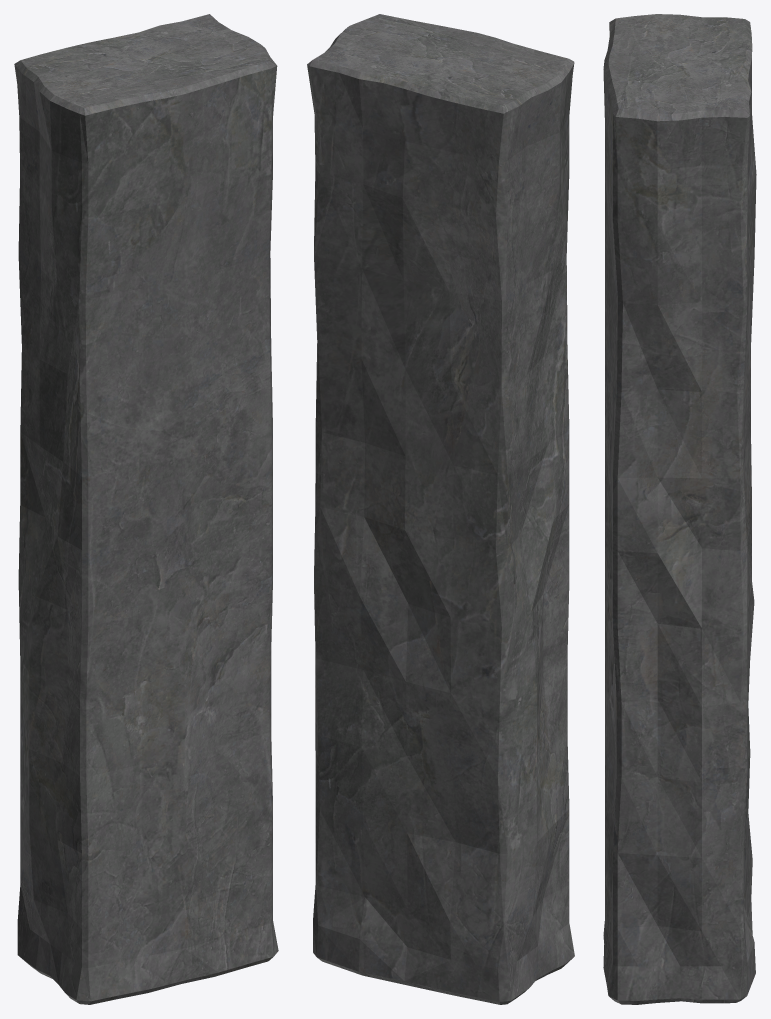
File: CaveWallPillar.fbx
The picture shows the model from 3 angles, left to right: view 1: azimuth 30°, elevation 25°; view 2: azimuth 150°, elevation 25°; view 3: azimuth 270°, elevation 25°; orthographic projection.
Parts seen in each view (by area): view 1: SM_ENV_NATURE_Cave_Wall_Pillar_01.mo; view 2: SM_ENV_NATURE_Cave_Wall_Pillar_01.mo; view 3: SM_ENV_NATURE_Cave_Wall_Pillar_01.mo.
Boxes of the visible parts, x1,y1,x2,y2 form: SM_ENV_NATURE_Cave_Wall_Pillar_01.mo: (14, 14, 278, 1004); SM_ENV_NATURE_Cave_Wall_Pillar_01.mo: (307, 14, 574, 1004); SM_ENV_NATURE_Cave_Wall_Pillar_01.mo: (603, 14, 756, 1004).
Size of the model in its own units: 248 by 986 by 153.
Materials: 1 (1 with a texture image).
